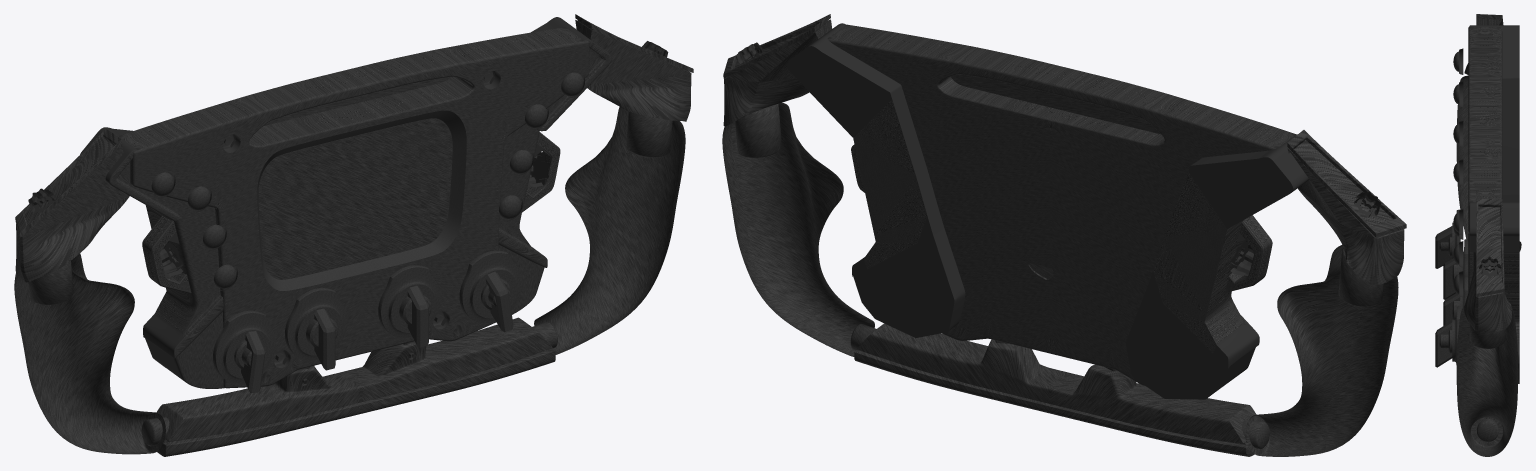
File: race-steering-wheel-essenza.glb
3 views of the same model, side by side, from view 1: azimuth 30°, elevation 25°; view 2: azimuth 150°, elevation 25°; view 3: azimuth 270°, elevation 25° (orthographic). The views are drawn at different scales.
Visible parts, largest first — view 1: mesh_0, mesh_26, mesh_4, mesh_25, mesh_28, mesh_2, mesh_15, mesh_3, mesh_17, mesh_24, mesh_1, mesh_5 (+5 smaller); view 2: mesh_0, mesh_2, mesh_26, mesh_25, mesh_28, mesh_1, mesh_3, mesh_24, mesh_21, mesh_5, mesh_22; view 3: mesh_26, mesh_0, mesh_3, mesh_28, mesh_17, mesh_24, mesh_6, mesh_15, mesh_18, mesh_16, mesh_1, mesh_22 (+7 smaller).
Part boxes in pixels (x1,y1,x2,y2): mesh_0: [119, 27, 589, 388]; mesh_26: [14, 107, 685, 454]; mesh_4: [258, 118, 452, 279]; mesh_25: [156, 317, 555, 456]; mesh_28: [15, 14, 693, 282]; mesh_2: [116, 48, 602, 388]; mesh_15: [213, 250, 522, 383]; mesh_3: [80, 17, 611, 376]; mesh_17: [224, 269, 515, 376]; mesh_24: [28, 111, 672, 446]; mesh_1: [361, 28, 580, 353]; mesh_5: [142, 132, 560, 293]; mesh_0: [827, 24, 1295, 385]; mesh_2: [787, 46, 1293, 399]; mesh_26: [722, 102, 1398, 456]; mesh_25: [854, 323, 1256, 456]; mesh_28: [723, 14, 1406, 284]; mesh_1: [831, 25, 1041, 340]; mesh_3: [808, 23, 1309, 389]; mesh_24: [735, 103, 1383, 448]; mesh_21: [951, 74, 1160, 134]; mesh_5: [851, 144, 1272, 292]; mesh_22: [736, 42, 1380, 217]; mesh_26: [1456, 75, 1518, 456]; mesh_0: [1468, 26, 1502, 291]; mesh_3: [1469, 25, 1519, 383]; mesh_28: [1464, 14, 1511, 332]; mesh_17: [1443, 222, 1461, 361]; mesh_24: [1469, 323, 1505, 441]; mesh_6: [1459, 48, 1463, 297]; mesh_15: [1454, 209, 1468, 364]; mesh_18: [1435, 321, 1452, 367]; mesh_16: [1435, 226, 1452, 268]; mesh_1: [1468, 126, 1502, 249]; mesh_22: [1479, 256, 1501, 278].
Bounding box in the file's own units: 0.34 × 0.1597 × 0.0468.
Materials: 1 (1 with a texture image).
